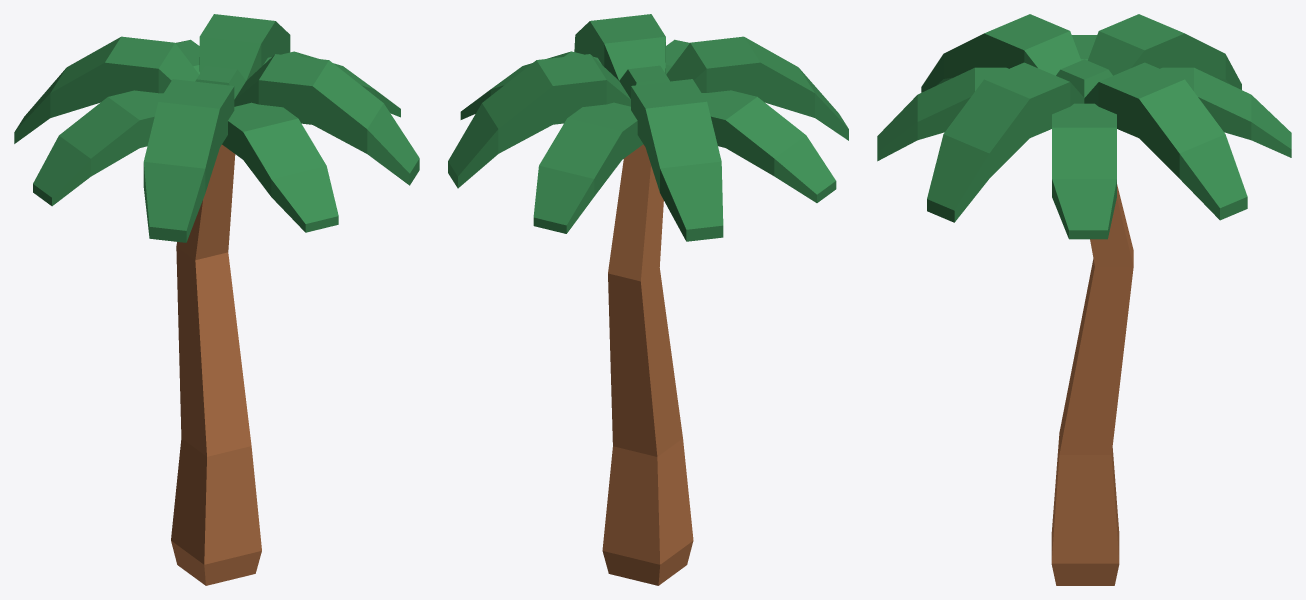
Rendered from palm_detailed_long.glb.
3 renders of one model, left to right at view 1: azimuth 30°, elevation 25°; view 2: azimuth 150°, elevation 25°; view 3: azimuth 270°, elevation 25°, orthographic.
Visible parts, largest first — view 1: Group 154, Group 152; view 2: Group 154, Group 152; view 3: Group 154, Group 152.
Part boxes in pixels (x1,y1,x2,y2): Group 154: (14,14,419,242); Group 152: (171,144,261,585); Group 154: (448,14,848,241); Group 152: (602,144,693,585); Group 154: (877,14,1291,239); Group 152: (1051,184,1133,585).
Bounding box in the file's own units: 15.44 × 21.26 × 15.44.
